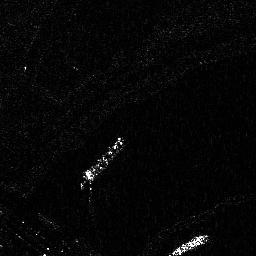ship: (77, 132, 129, 190), (165, 235, 211, 256)
